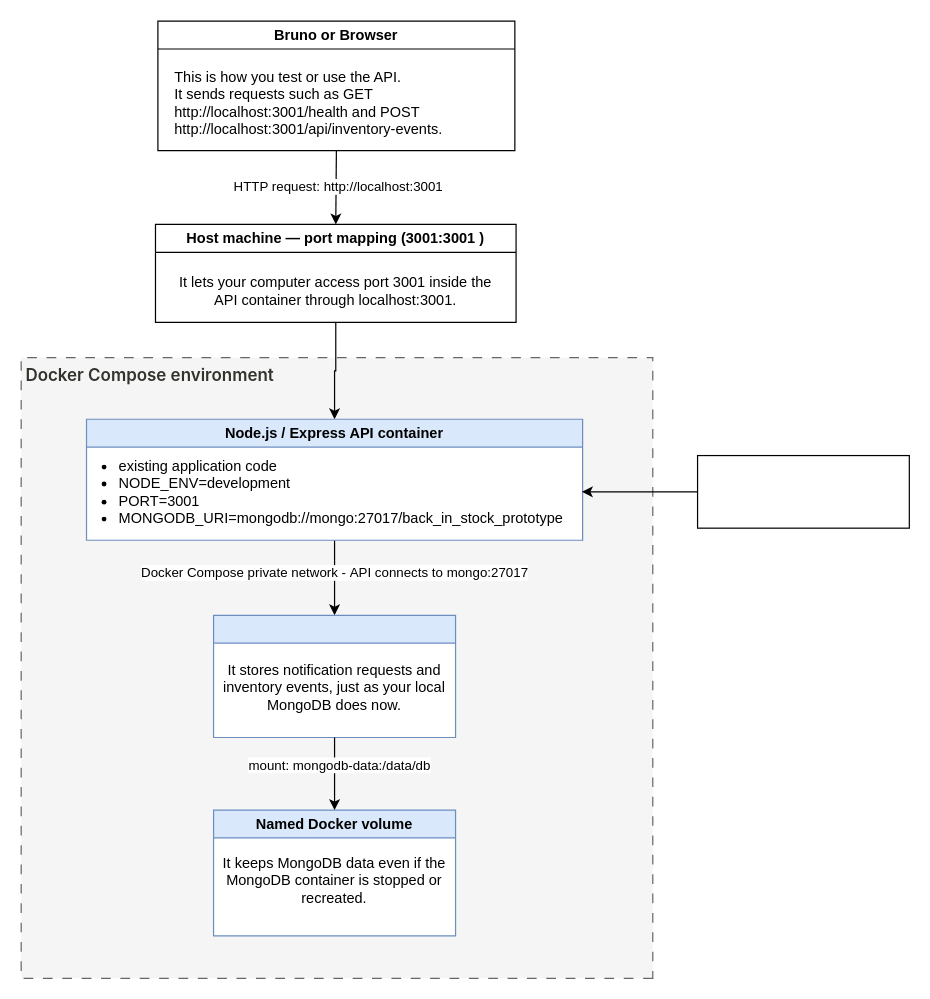
Some shapes in this 930 by 999 pixel diagram are drawn without their labels. The box of each missing label's shape, as (x1, y1, x2, y2) in pixels:
.env runtime configuration — not committed to Git: (696, 454, 909, 528)
MongoDB container: (212, 614, 456, 737)
